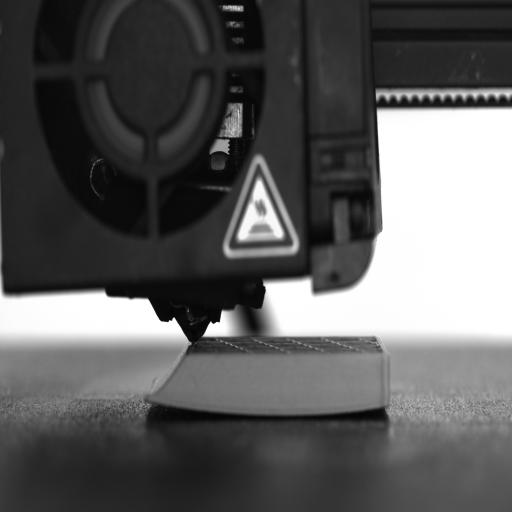warp: (139, 388, 222, 422)
